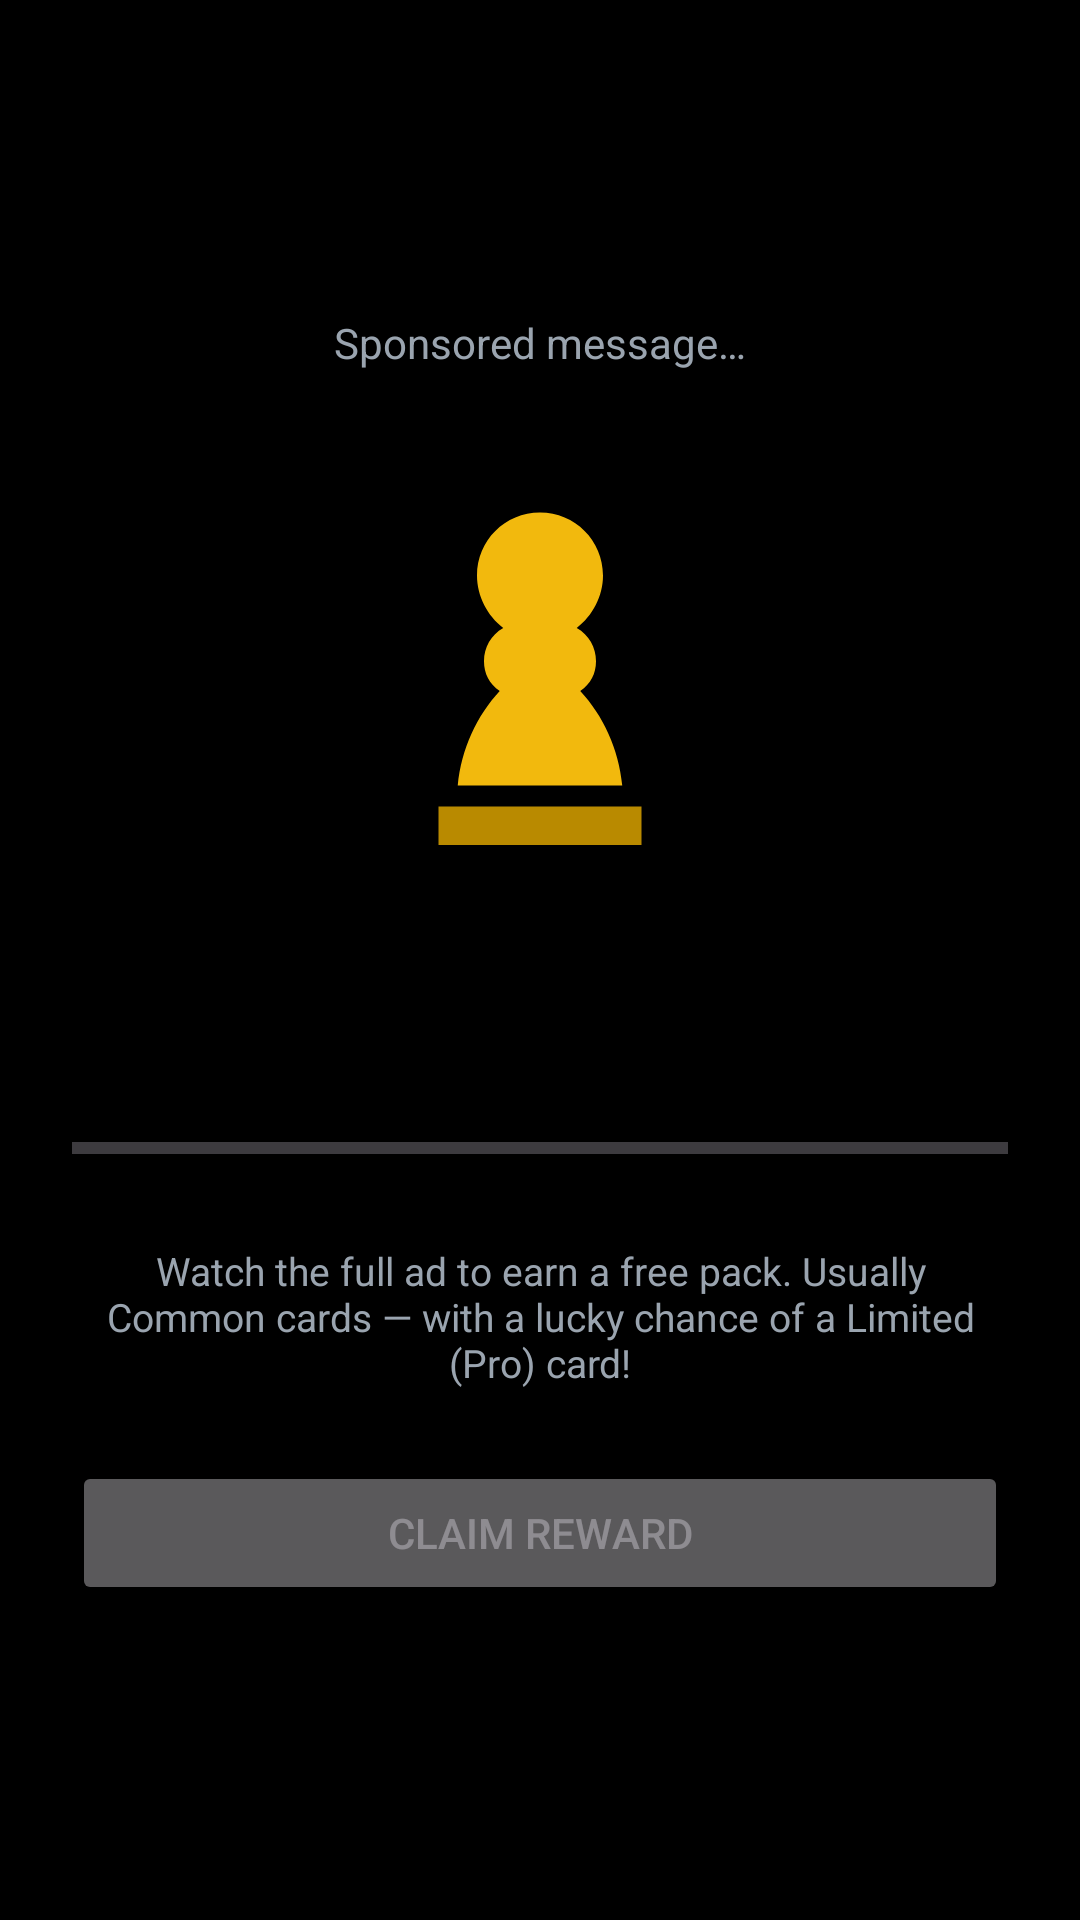

Named icons in this screenshot (1080 × 1920) and their centers, (x,y):
pawn gold: (540,678)
